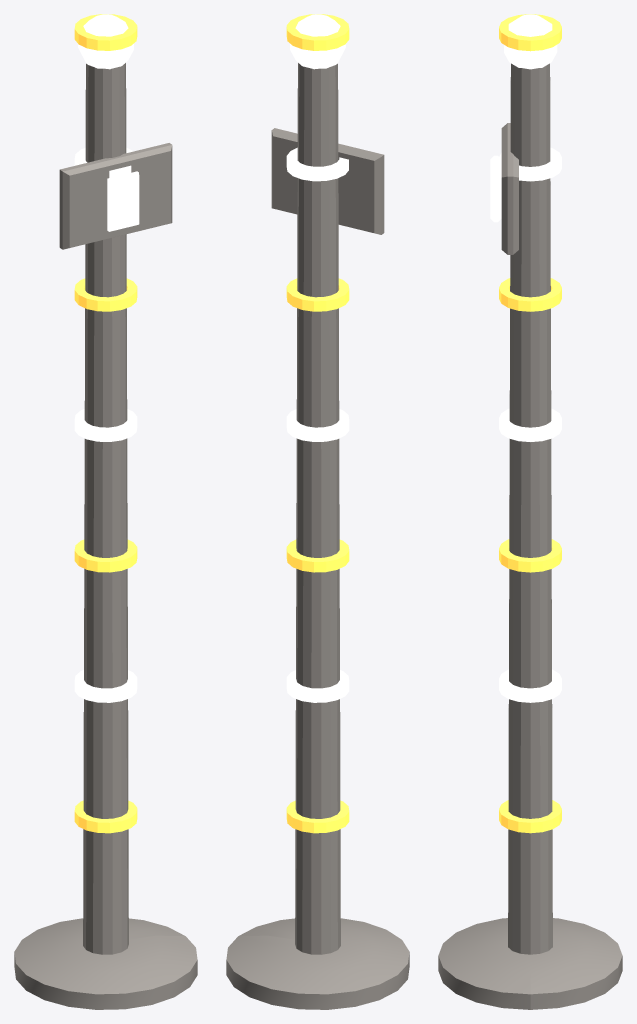
File: vfx-mesh-library-scale-reference-post-f95710ba__21934.glb
3 renders of one model, left to right at view 1: azimuth 30°, elevation 25°; view 2: azimuth 150°, elevation 25°; view 3: azimuth 270°, elevation 25°, orthographic.
Visible parts, largest first — view 1: scale-reference-post; view 2: scale-reference-post; view 3: scale-reference-post.
Part boxes in pixels (x1,y1,x2,y2): scale-reference-post: [14, 14, 197, 1009]; scale-reference-post: [226, 14, 409, 1009]; scale-reference-post: [438, 14, 622, 1009].
Bounding box in the file's own units: 0.32 × 1.83 × 0.32.
